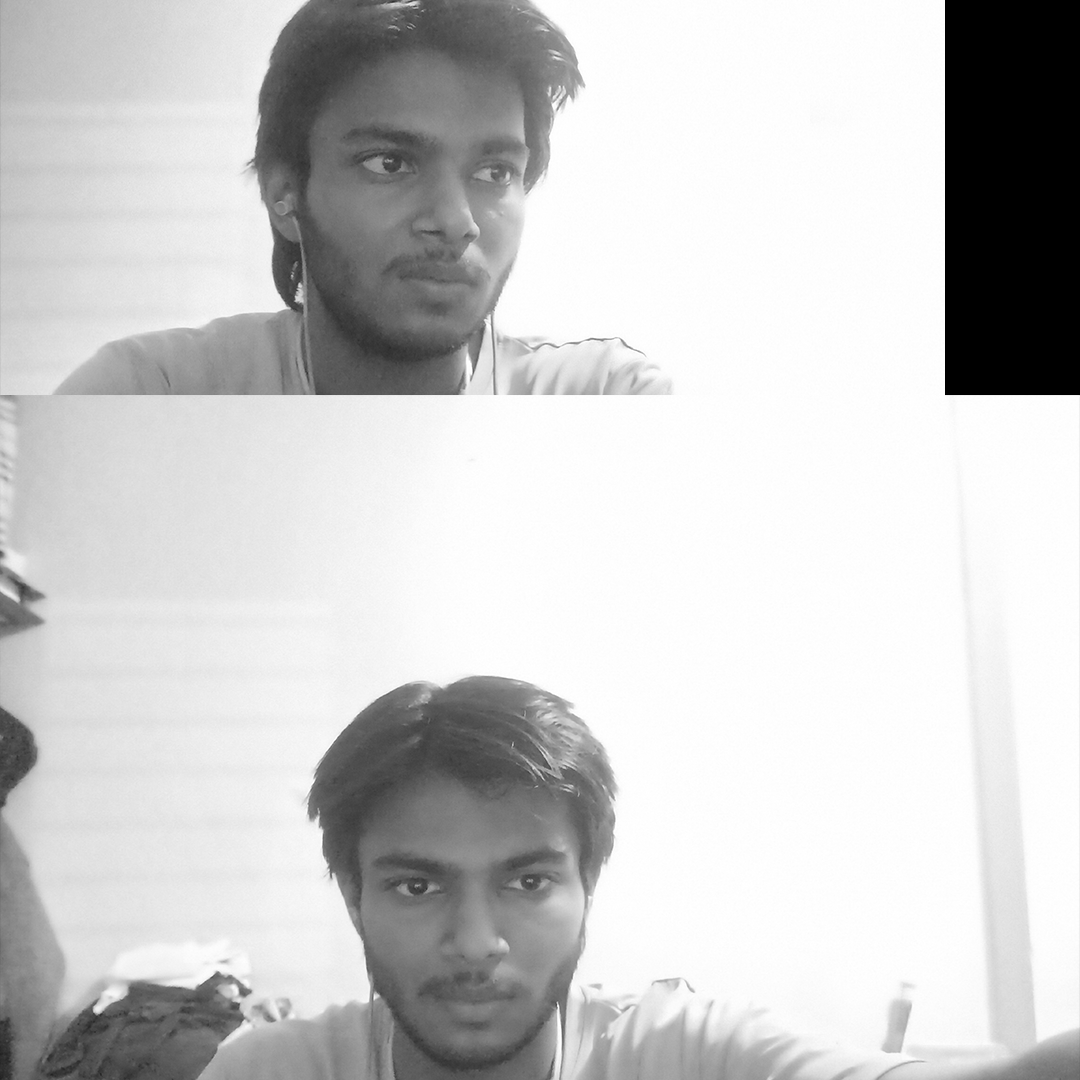Focused: (233, 605, 654, 1062), (192, 8, 621, 368)
